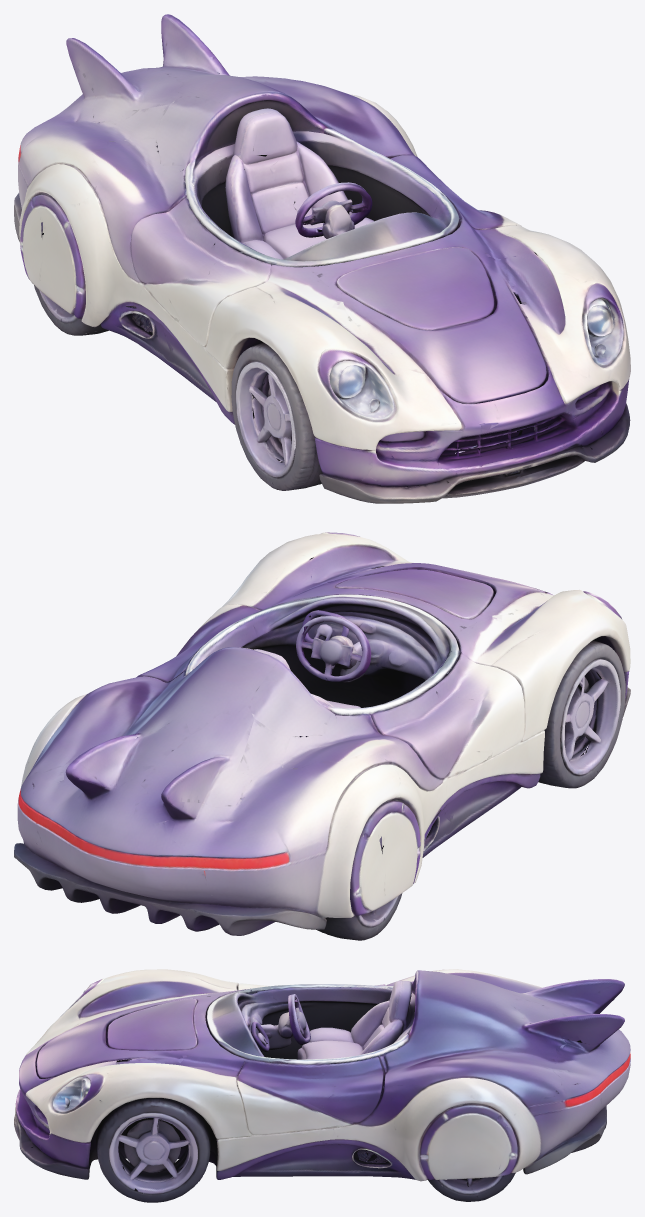
The model's file is nova-desktop.glb.
3 views of the same model, one above another, from view 1: azimuth 30°, elevation 25°; view 2: azimuth 150°, elevation 25°; view 3: azimuth 270°, elevation 25° (orthographic). The views are drawn at different scales.
Visible parts, largest first — view 1: model; view 2: model; view 3: model.
Part boxes in pixels (box(x1,y1,x2,y2)): model: box(14, 14, 630, 503); model: box(14, 532, 630, 940); model: box(14, 969, 630, 1202).
Bounding box in the file's own units: 0.9277 × 0.5801 × 1.9.
1 material, 1 textured.
